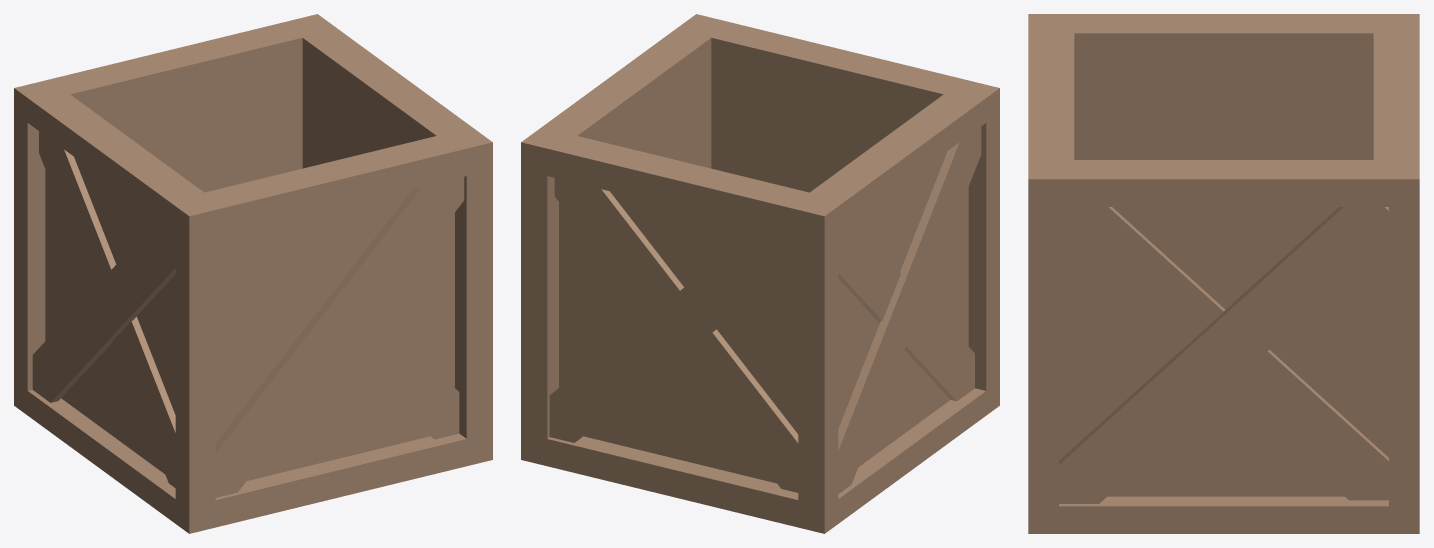
3 renders of one model, left to right at view 1: azimuth 30°, elevation 25°; view 2: azimuth 150°, elevation 25°; view 3: azimuth 270°, elevation 25°, orthographic. The views are drawn at different scales.
Visible parts, largest first — view 1: Box; view 2: Box; view 3: Box.
Boxes of the visible parts, x1=… form: Box: x1=14, y1=14, x2=492, y2=533; Box: x1=521, y1=14, x2=999, y2=533; Box: x1=1028, y1=14, x2=1419, y2=533.
Bounding box in the file's own units: 200 × 200 × 200.
